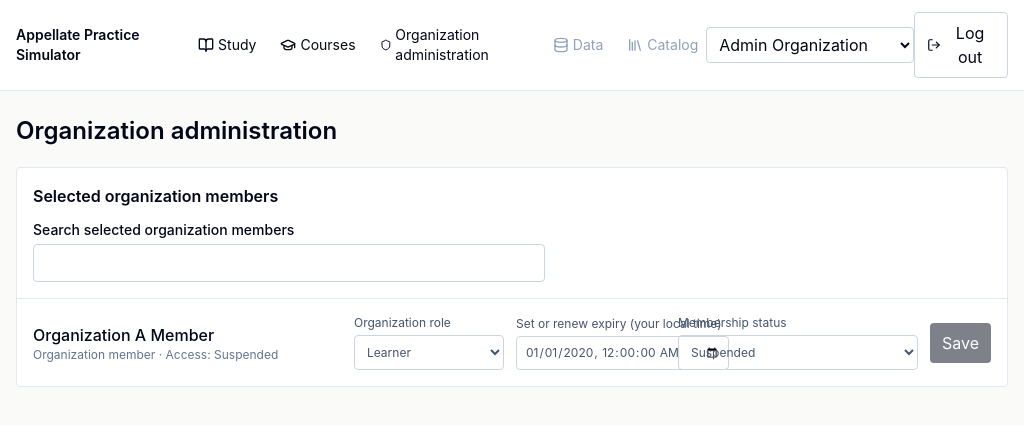
organization scoped route access › requires a future expiry before reactivating a suspended expired membership
The width and height of the screenshot is (1024, 425).
Expected: the text "Organization member · Access: Suspended" is shown, [33, 346, 278, 362]
Select "Active" in the dropdown named "Status for Organization A Member" at (798, 352), box [678, 335, 918, 370]
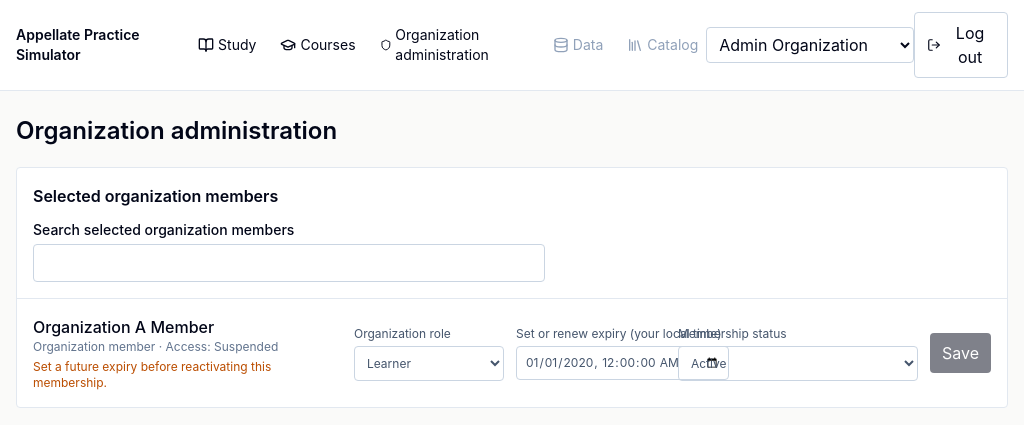
Expected: the button "Save" is disabled, [930, 333, 991, 373]
Expected: the text "Set a future expiry before reactivating this membership." is shown, [33, 359, 271, 390]
Replace the text in the field named "Expiry for Organization A Member" with "2999-01-01T12:00:00" at (622, 363), box [516, 346, 729, 380]
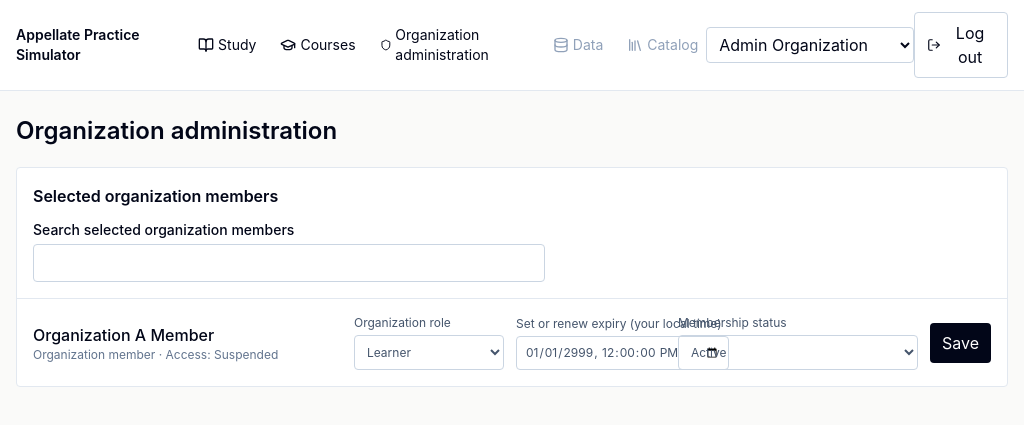
Expected: the button "Save" is enabled, [930, 322, 991, 362]
